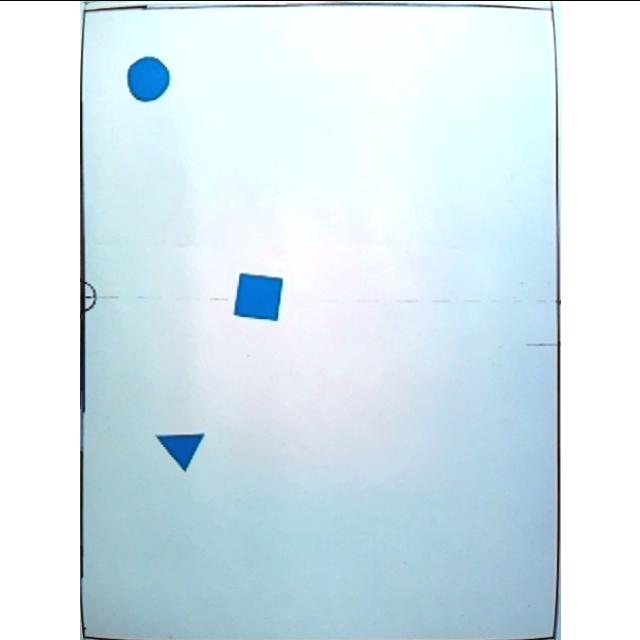blueCircle: (124, 55, 170, 101)
blueSquare: (230, 273, 282, 321)
blueTriangle: (153, 429, 205, 471)
